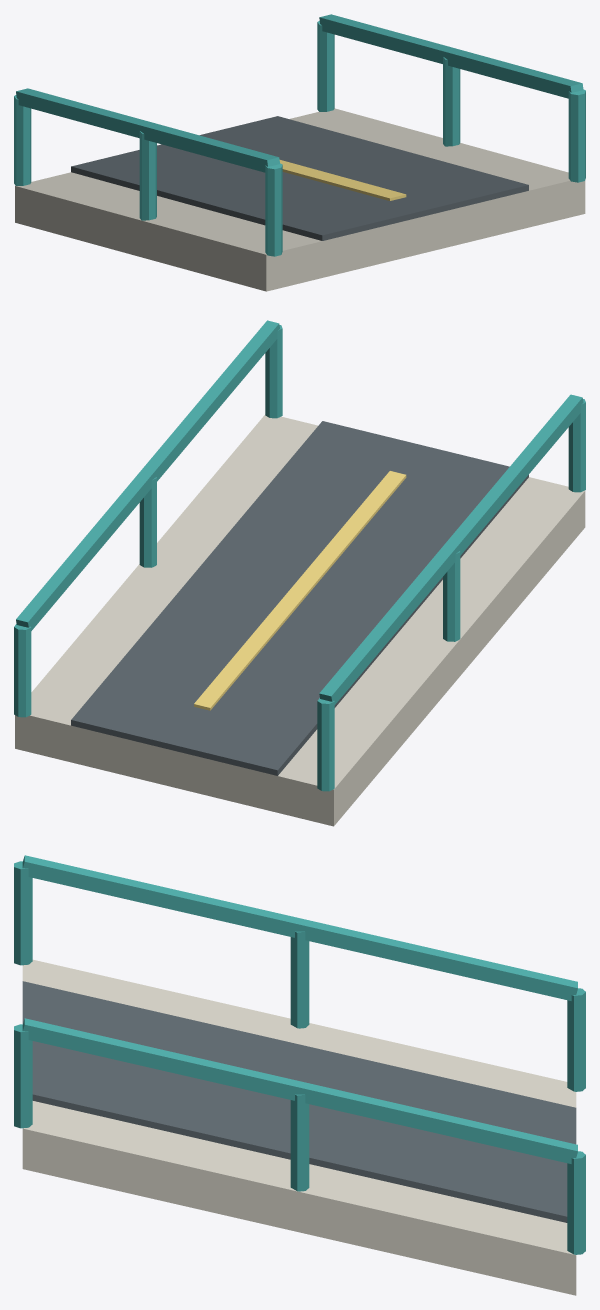
Rendered from BRG_LOCAL_RAMP_1x1_DOWN_050.glb.
The picture shows the model from 3 angles, top to bottom: view 1: azimuth 30°, elevation 25°; view 2: azimuth 150°, elevation 25°; view 3: azimuth 270°, elevation 25°; orthographic projection. The views are drawn at different scales.
Parts seen in each view (by area): view 1: BRG_LOCAL_RAMP_1x1_DOWN_050_Visual; view 2: BRG_LOCAL_RAMP_1x1_DOWN_050_Visual; view 3: BRG_LOCAL_RAMP_1x1_DOWN_050_Visual.
Part boxes in pixels (x1,y1,x2,y2): BRG_LOCAL_RAMP_1x1_DOWN_050_Visual: (14,14,585,291); BRG_LOCAL_RAMP_1x1_DOWN_050_Visual: (14,320,585,826); BRG_LOCAL_RAMP_1x1_DOWN_050_Visual: (14,855,585,1295).
Size of what is drawn, in the model's own units: 1.45 by 1.07 by 2.05.
